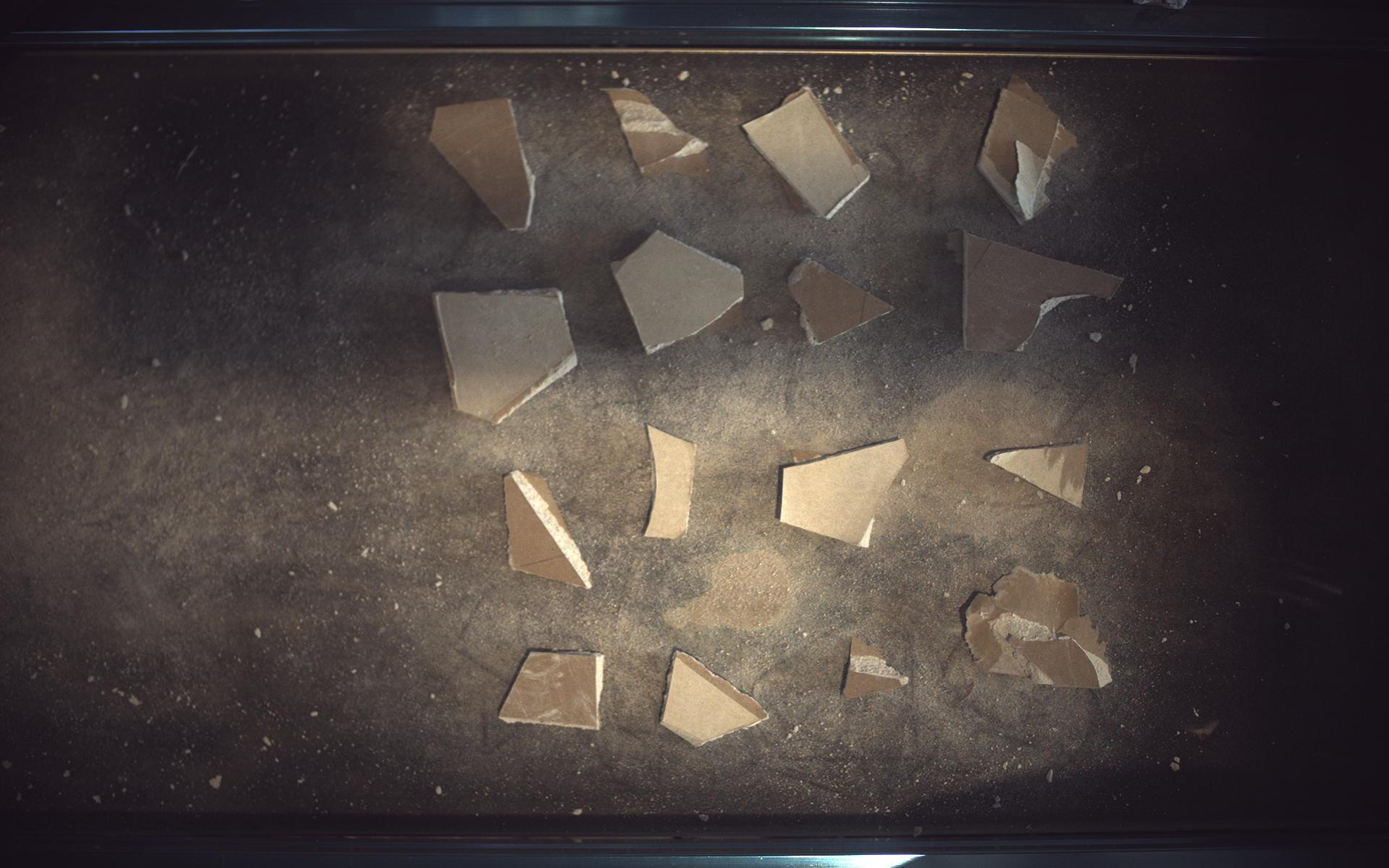gypsum_board: (949, 232, 1126, 352), (433, 289, 577, 424), (967, 567, 1114, 689), (744, 85, 871, 218), (613, 229, 744, 354), (979, 75, 1079, 223), (430, 97, 535, 230), (781, 439, 909, 547), (504, 469, 592, 590), (661, 651, 769, 748), (606, 86, 712, 176), (789, 258, 895, 345), (500, 652, 604, 731), (988, 441, 1091, 507), (645, 425, 697, 539), (844, 637, 911, 699)
